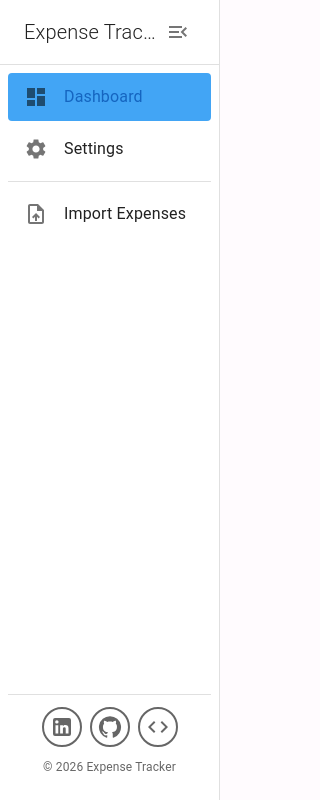
Test: Sidebar › hides nav text in compact mode
The image size is (320, 800).
Click the button named "Toggle compact menu": [178, 32] box [161, 15, 195, 49]
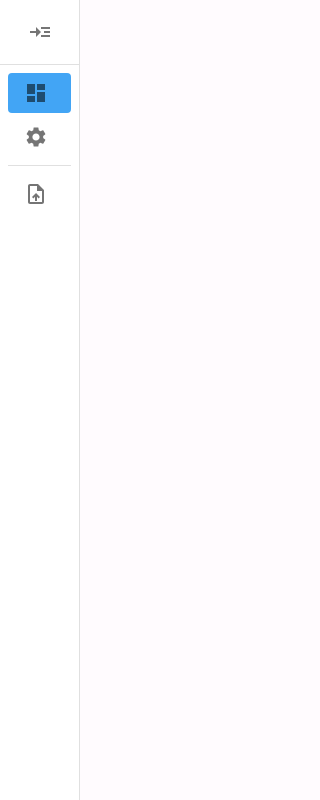
Expected: the text "Dashboard" is gone
Expected: the text "Settings" is gone
